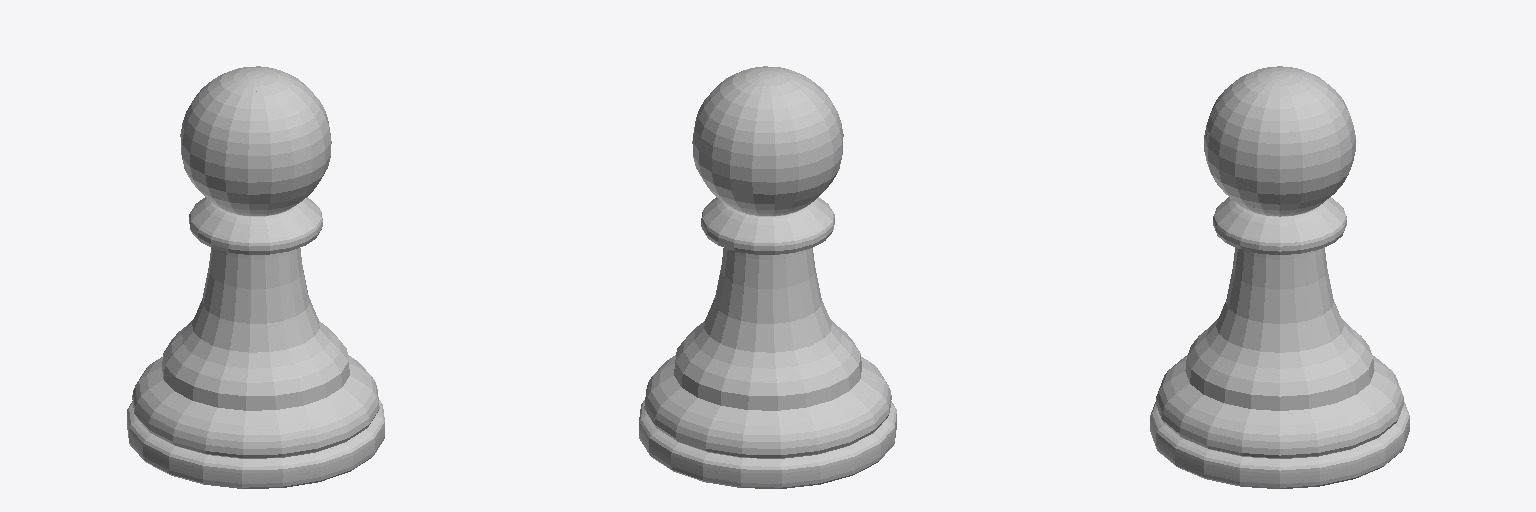
Rendered from pawn_w_6.obj.
3 renders of one model, left to right at view 1: azimuth 30°, elevation 25°; view 2: azimuth 150°, elevation 25°; view 3: azimuth 270°, elevation 25°, orthographic.
Visible parts, largest first — view 1: pawn_w_6; view 2: pawn_w_6; view 3: pawn_w_6.
Boxes of the visible parts, x1=… form: pawn_w_6: x1=127, y1=66, x2=384, y2=488; pawn_w_6: x1=639, y1=66, x2=896, y2=488; pawn_w_6: x1=1150, y1=66, x2=1409, y2=488.
Size of the model in its own units: 2.73 by 4.2 by 2.73.